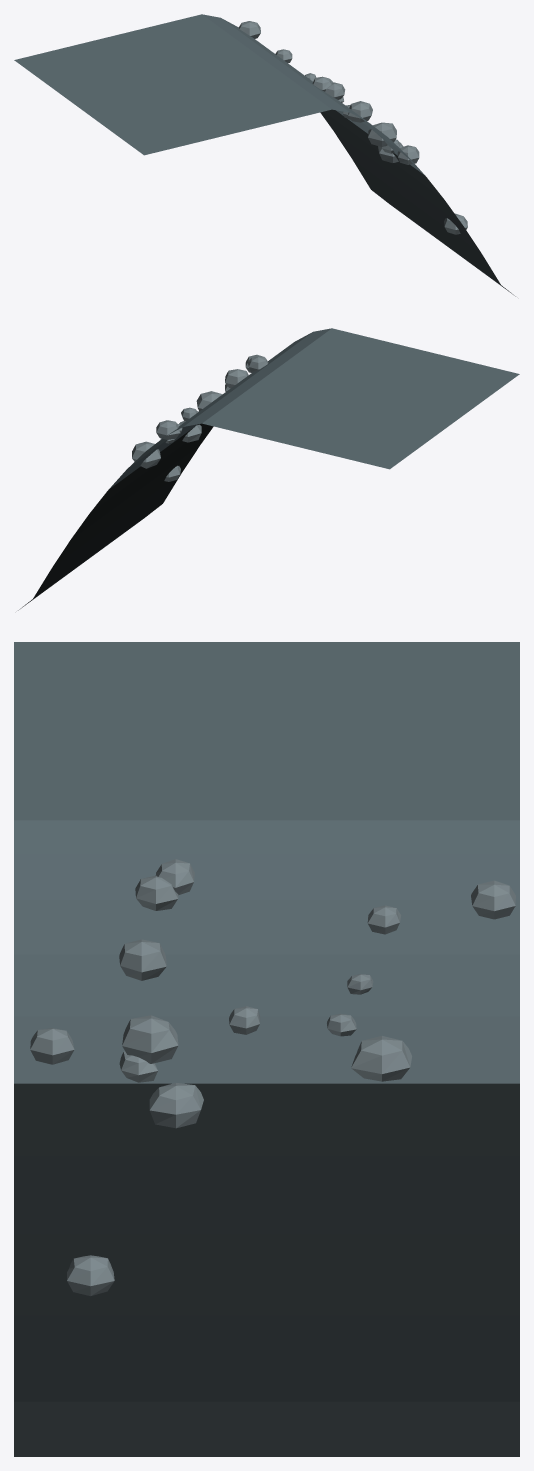
File: lake-slope-edge-slope-2.glb
3 renders of one model, top to bottom at view 1: azimuth 30°, elevation 25°; view 2: azimuth 150°, elevation 25°; view 3: azimuth 270°, elevation 25°, orthographic. The views are drawn at different scales.
Visible parts, largest first — view 1: lake-slope-edge-slope-2; view 2: lake-slope-edge-slope-2; view 3: lake-slope-edge-slope-2.
Part boxes in pixels (x1,y1,x2,y2): lake-slope-edge-slope-2: [14, 14, 515, 296]; lake-slope-edge-slope-2: [18, 328, 519, 610]; lake-slope-edge-slope-2: [14, 642, 519, 1456].
Bounding box in the file's own units: 4 × 2.4 × 2.4.
